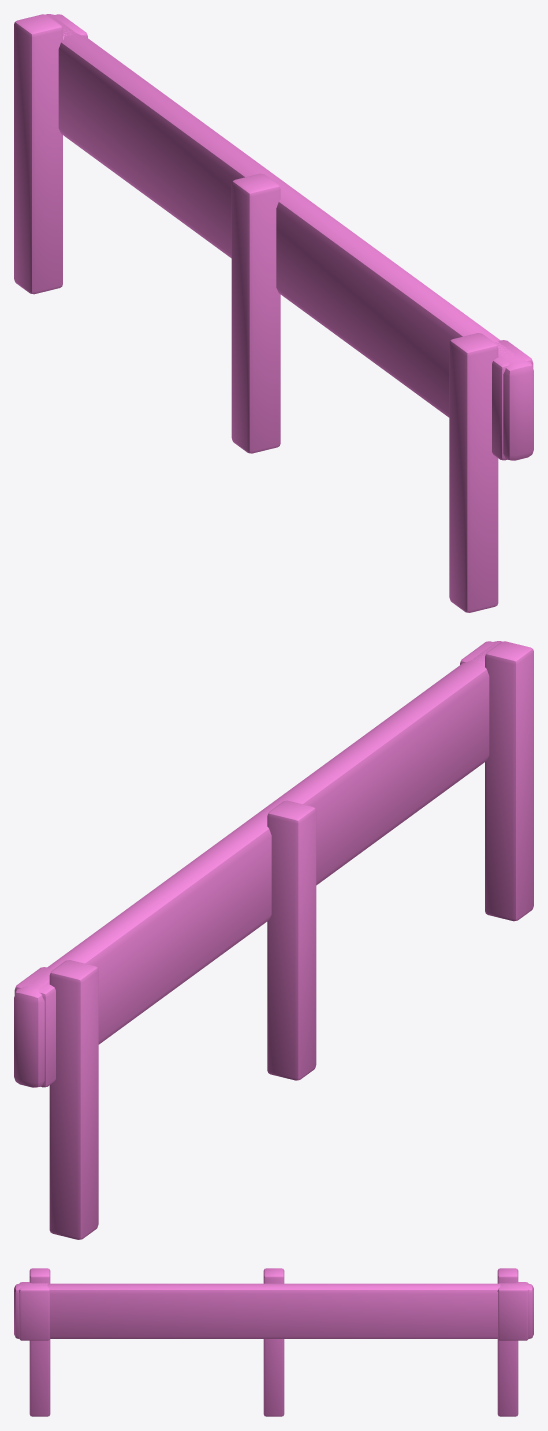
Rendered from Mountain_Guardrail.fbx.
3 renders of one model, top to bottom at view 1: azimuth 30°, elevation 25°; view 2: azimuth 150°, elevation 25°; view 3: azimuth 270°, elevation 25°, orthographic. The views are drawn at different scales.
Parts seen in each view (by area): view 1: Guardrail; view 2: Guardrail; view 3: Guardrail.
Boxes of the visible parts, bbox=[...] form: Guardrail: bbox=[14, 14, 533, 612]; Guardrail: bbox=[14, 641, 533, 1239]; Guardrail: bbox=[14, 1268, 533, 1416].
Size of the model in its own units: 0.7 by 3 by 10.
1 material, 1 textured.
